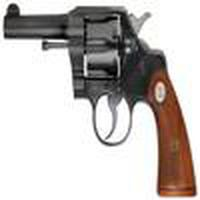gun: (3, 7, 200, 168)
